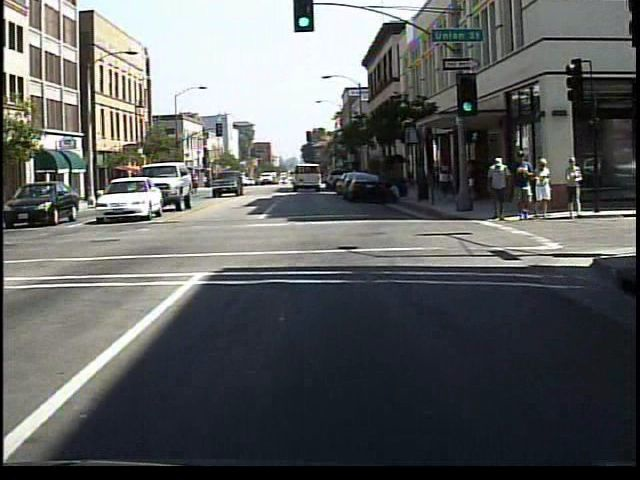person: (486, 153, 515, 225), (560, 154, 587, 224), (511, 151, 536, 223), (531, 157, 553, 224), (436, 155, 457, 206), (189, 172, 206, 200)
